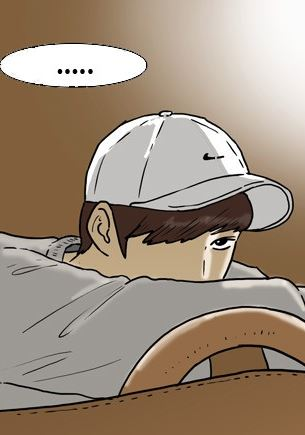hat: (82, 110, 296, 237)
